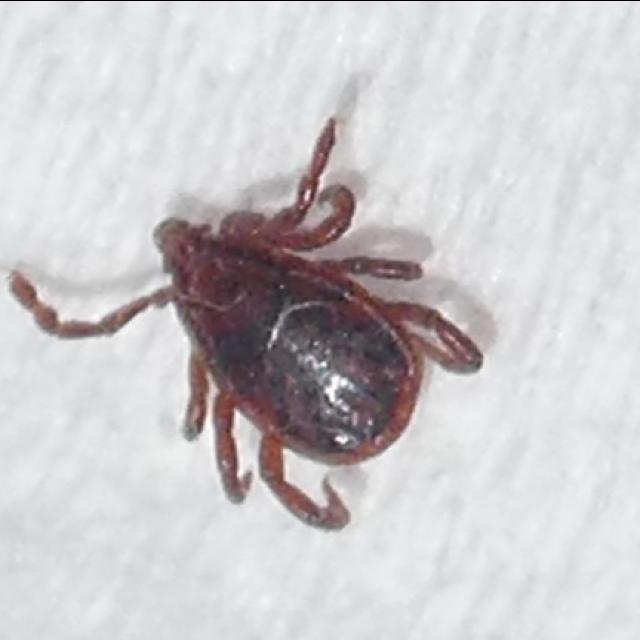Rhipicephalus Sanguineus-M: (6, 115, 483, 532)
